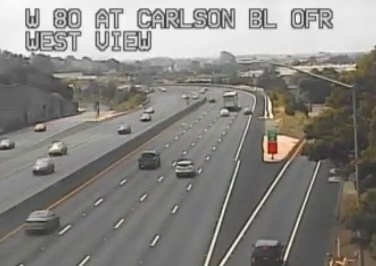car: (251, 240, 283, 266), (25, 210, 59, 232), (138, 151, 160, 168), (175, 160, 194, 173)
